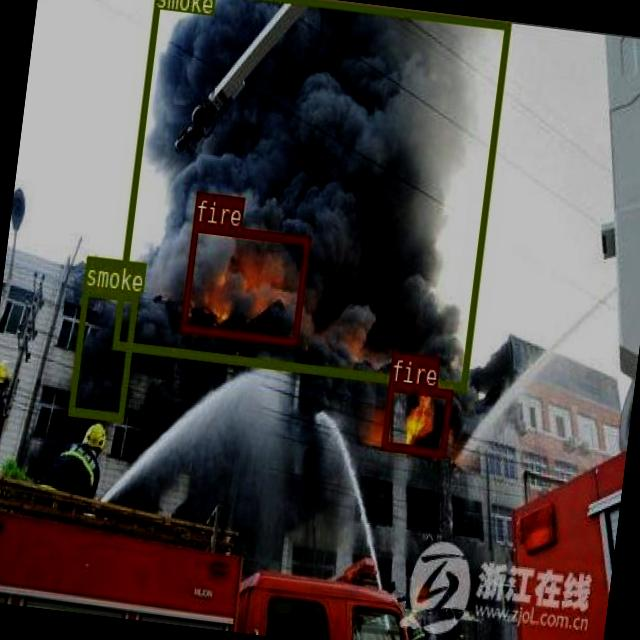fire: (180, 222, 308, 344), (379, 382, 452, 458)
smoke: (111, 0, 510, 389), (67, 285, 137, 421)
